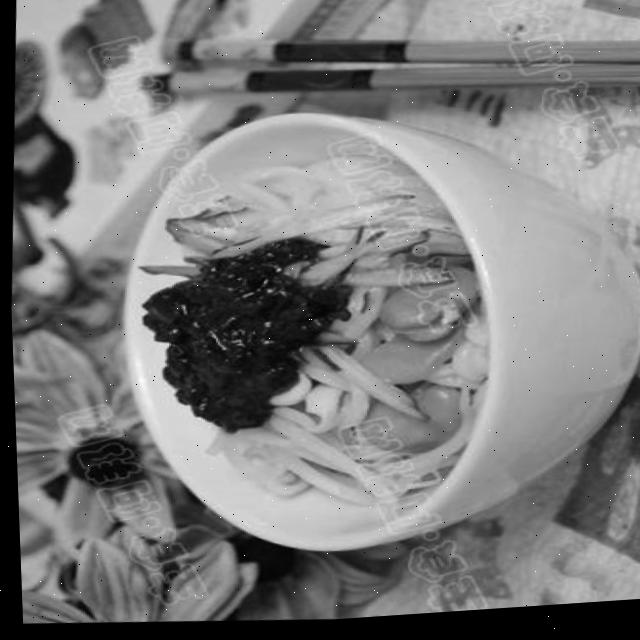面条主食: (106, 90, 635, 584)
